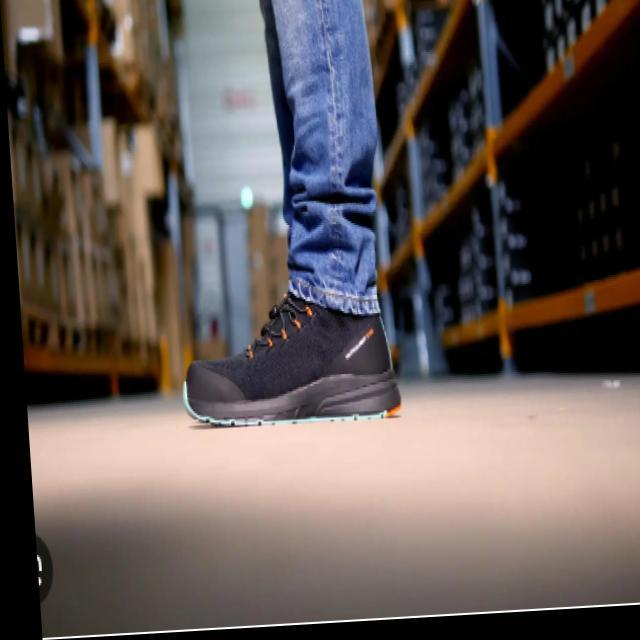shoes: (172, 268, 408, 437)
